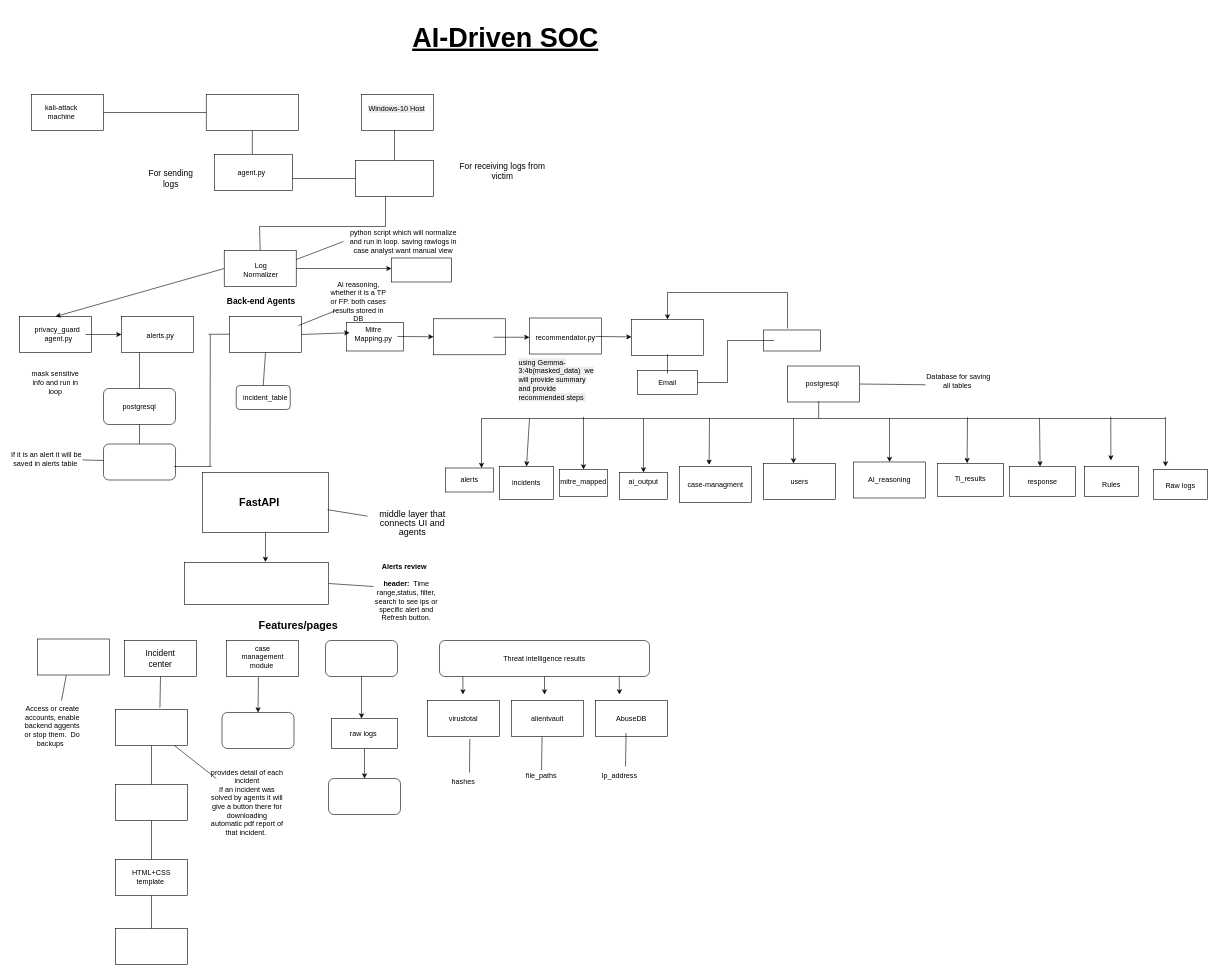
Image size: 1218x975. Some labels were removed from this diagram. Here are the shapes that lost their labels. From the top down, the centre of each, then its label:
At [252,112]: "Windows-10 victim".
At [394,178]: "receiver.py".
At [421,269]: "raw_logs".
At [265,334]: "Gemma-3:4B LLM".
At [469,336]: "Threat_intelligence".
At [667,337]: "shuffle.io".
At [791,340]: "Automatic response".
At [139,461]: "Rules_Table".
At [256,583]: "Dashboard".
At [73,656]: "Admin page".
At [361,658]: "Manual view".
At [151,727]: "details.html".
At [257,730]: "status of incidents".
At [151,802]: "PDF Report generator".
At [364,796]: "SIEM".
At [151,946]: "Jinja2".
